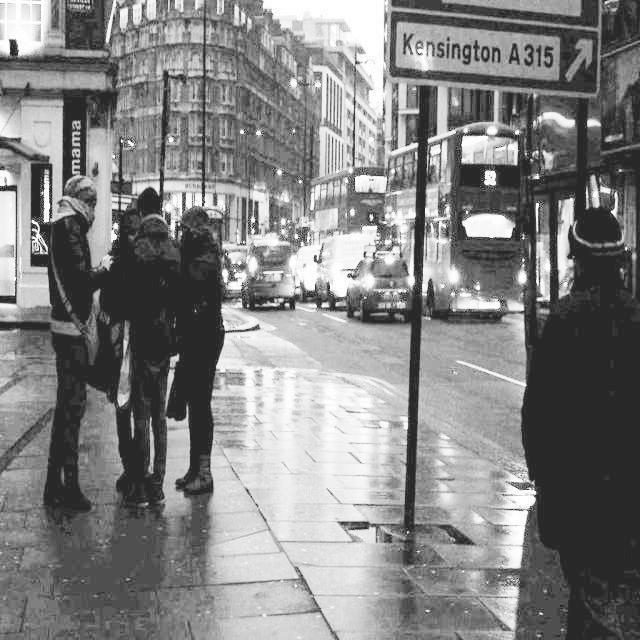Bus: (393, 109, 546, 337), (309, 158, 398, 300)
Car: (239, 220, 300, 307)
